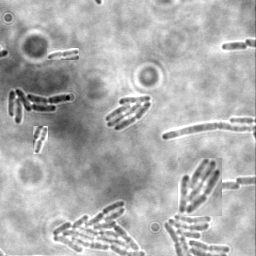Dividing: (161, 123, 255, 142), (33, 126, 48, 154), (47, 48, 79, 60), (221, 41, 248, 52)
Microcolony: (51, 200, 147, 255), (162, 212, 231, 255), (178, 158, 222, 216), (8, 89, 72, 126), (106, 96, 153, 132), (223, 182, 240, 193)
